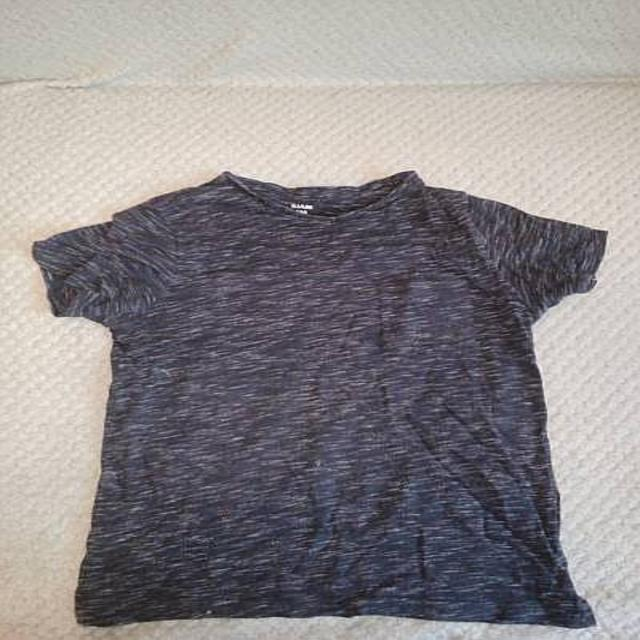T_SHIRT: (19, 157, 640, 636)
